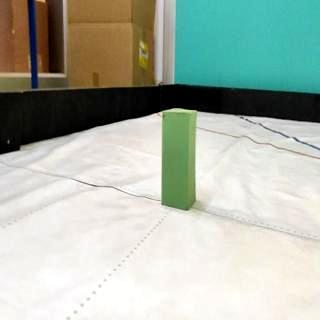greenbox: (161, 106, 199, 212)
